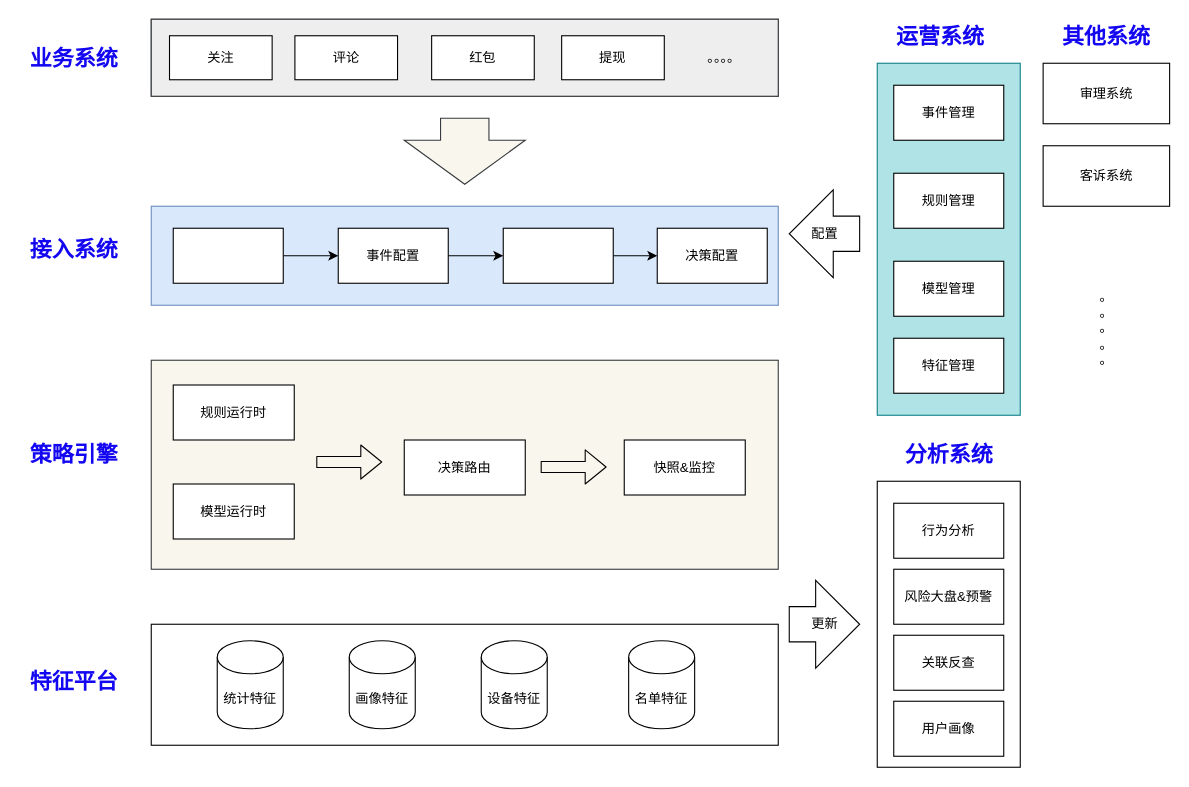
The diagram is 1189 pixels wide and 787 high, and some of its shapes have lost their labels. Each missing label, with the centre of its shape:
"接入" goes at [464,150].
"数据/维度接入" goes at [227,255].
"策略配置" goes at [557,255].
